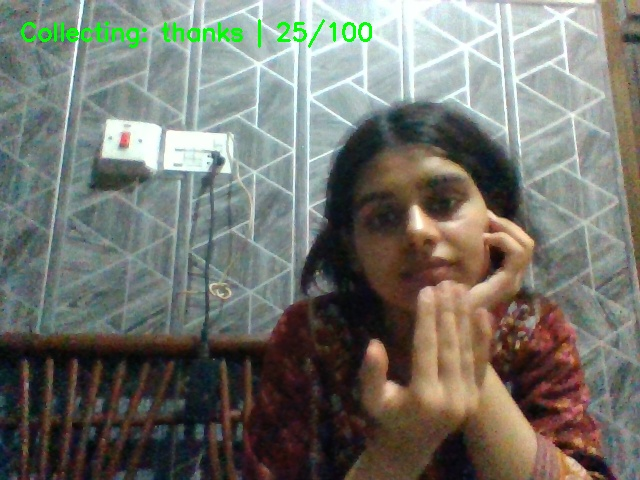thanks: (354, 281, 525, 466)
